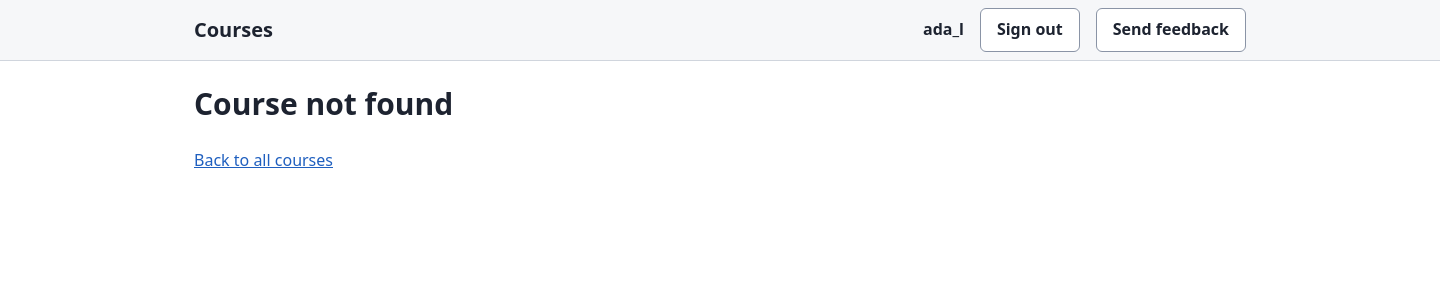
Test: keeps the learner signed in and shows a banner when sign-out fails with a network error
Click the button "Sign out".
click(1030, 30)  # box [980,8,1080,52]
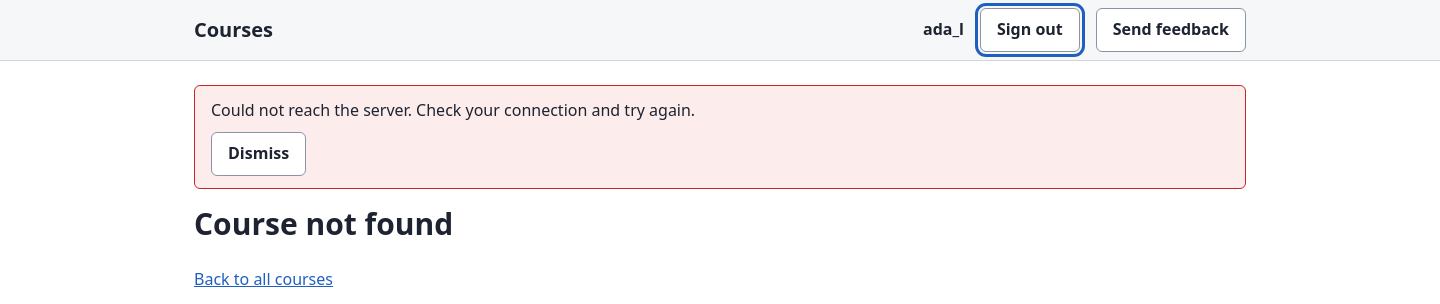
expect the text "ada_l" is shown: met, box [923,17,964,43]
expect the text "Could not reach the server. Check your connection and try again." is shown: met, box [211,99,695,121]
